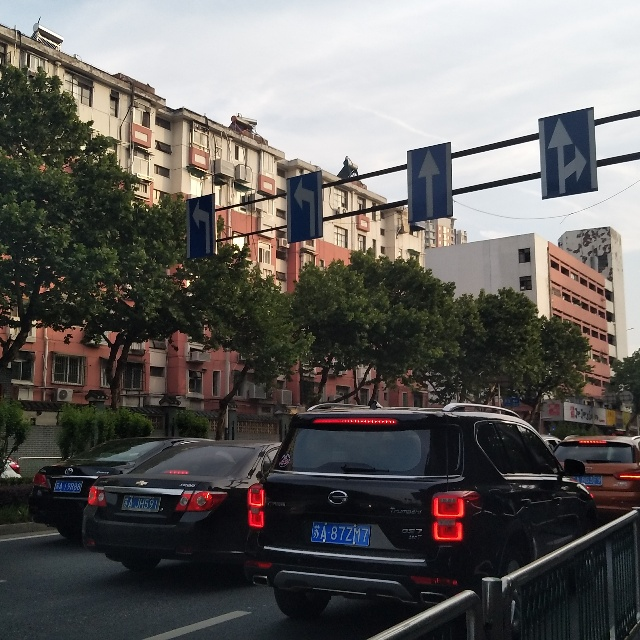left: (289, 176, 323, 238), (185, 196, 219, 255)
straight: (409, 149, 451, 224)
